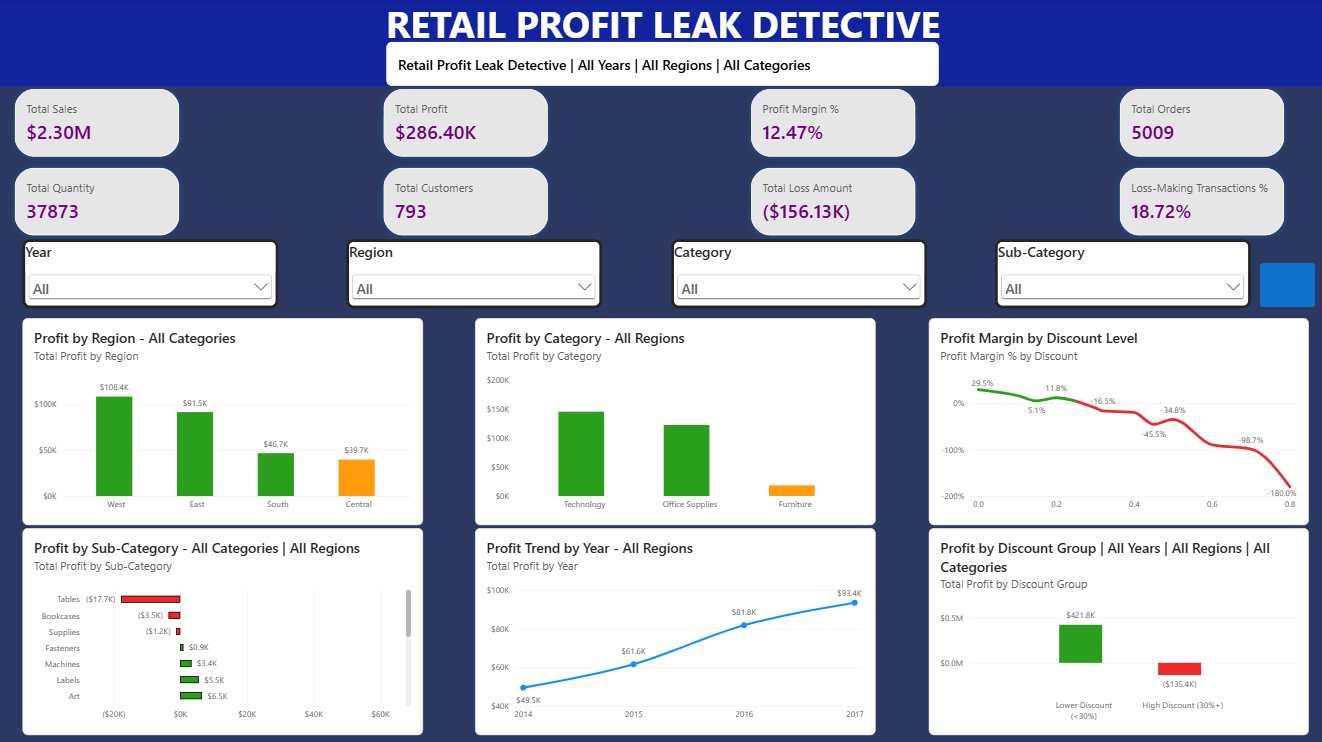

What the dashboard file says about the page in this screenshot:
{"tool":"powerbi","page":{"name":"Executive Overview","canvas":[1920,1080],"ordinal":0},"visuals":[{"type":"cardVisual","fields":{"Data":["superstore_cleaned.Total Customers"]},"box":[1272,120,288,168],"z":0},{"type":"cardVisual","fields":{"Data":["superstore_cleaned.Total Sales"]},"box":[24,120,288,168],"z":1000},{"type":"cardVisual","fields":{"Data":["superstore_cleaned.Total Quantity"]},"box":[1584,120,288,168],"z":2000},{"type":"cardVisual","fields":{"Data":["superstore_cleaned.Total Orders"]},"box":[960,120,288,168],"z":3000},{"type":"cardVisual","fields":{"Data":["superstore_cleaned.Total Profit"]},"box":[336,120,288,168],"z":4000},{"type":"cardVisual","fields":{"Data":["superstore_cleaned.Profit Margin %"]},"box":[648,120,288,168],"z":5000},{"type":"clusteredColumnChart","title":"Profit By Category","fields":{"Category":["superstore_cleaned.Category"],"Y":["superstore_cleaned.Total Profit"]},"box":[688.7,428.6,580,300],"z":6000},{"type":"clusteredColumnChart","title":"Profit by Region","fields":{"Category":["superstore_cleaned.Region"],"Y":["superstore_cleaned.Total Profit"]},"box":[33.3,428.6,580,300],"z":7000},{"type":"lineChart","title":"Profit Margin by Discount Level","fields":{"Category":["superstore_cleaned.Discount"],"Y":["superstore_cleaned.Profit Margin %"]},"box":[1344,428.6,550,300],"z":8000},{"type":"clusteredBarChart","title":"Profit by Sub-Category","fields":{"Category":["superstore_cleaned.Sub-Category"],"Y":["superstore_cleaned.Total Profit"]},"box":[33,768,580,300],"z":9000},{"type":"lineChart","title":"Profit Trend by Year","fields":{"Category":["superstore_cleaned.Order Date.Variation.Date Hierarchy.Year"],"Y":["superstore_cleaned.Total Profit"]},"box":[688.5,768,580,300],"z":10000},{"type":"clusteredColumnChart","title":"Profit by Discount Group","fields":{"Category":["superstore_cleaned.Discount Group"],"Y":["superstore_cleaned.Total Profit"]},"box":[1344,768,550,300],"z":11000},{"type":"slicer","title":"Year","fields":{"Values":["superstore_cleaned.Order Date.Variation.Date Hierarchy.Year"]},"box":[33,288,580,125],"z":12000},{"type":"slicer","title":"Region","fields":{"Values":["superstore_cleaned.Region"]},"box":[688.5,288,580,125],"z":13000},{"type":"slicer","title":"Category","fields":{"Values":["superstore_cleaned.Category"]},"box":[1344,288,550,125],"z":14000},{"type":"textbox","box":[865,930,150,150],"z":15000},{"type":"textbox","box":[0,0,1920,120],"z":16000}]}

Visuals, with their boxes in screenshot pixels (x1, y1, x2, y2), scaled from the page's 1920x1080 canvas onto the 1322x742 screenshot:
cardVisual - superstore_cleaned.Total Customers: box=[876, 82, 1074, 198]
cardVisual - superstore_cleaned.Total Sales: box=[17, 82, 215, 198]
cardVisual - superstore_cleaned.Total Quantity: box=[1091, 82, 1289, 198]
cardVisual - superstore_cleaned.Total Orders: box=[661, 82, 859, 198]
cardVisual - superstore_cleaned.Total Profit: box=[231, 82, 430, 198]
cardVisual - superstore_cleaned.Profit Margin %: box=[446, 82, 644, 198]
"Profit By Category" clusteredColumnChart: box=[474, 294, 874, 501]
"Profit by Region" clusteredColumnChart: box=[23, 294, 422, 501]
"Profit Margin by Discount Level" lineChart: box=[925, 294, 1304, 501]
"Profit by Sub-Category" clusteredBarChart: box=[23, 528, 422, 734]
"Profit Trend by Year" lineChart: box=[474, 528, 873, 734]
"Profit by Discount Group" clusteredColumnChart: box=[925, 528, 1304, 734]
"Year" slicer: box=[23, 198, 422, 284]
"Region" slicer: box=[474, 198, 873, 284]
"Category" slicer: box=[925, 198, 1304, 284]
textbox: box=[596, 639, 699, 741]
textbox: box=[0, 0, 1321, 82]
